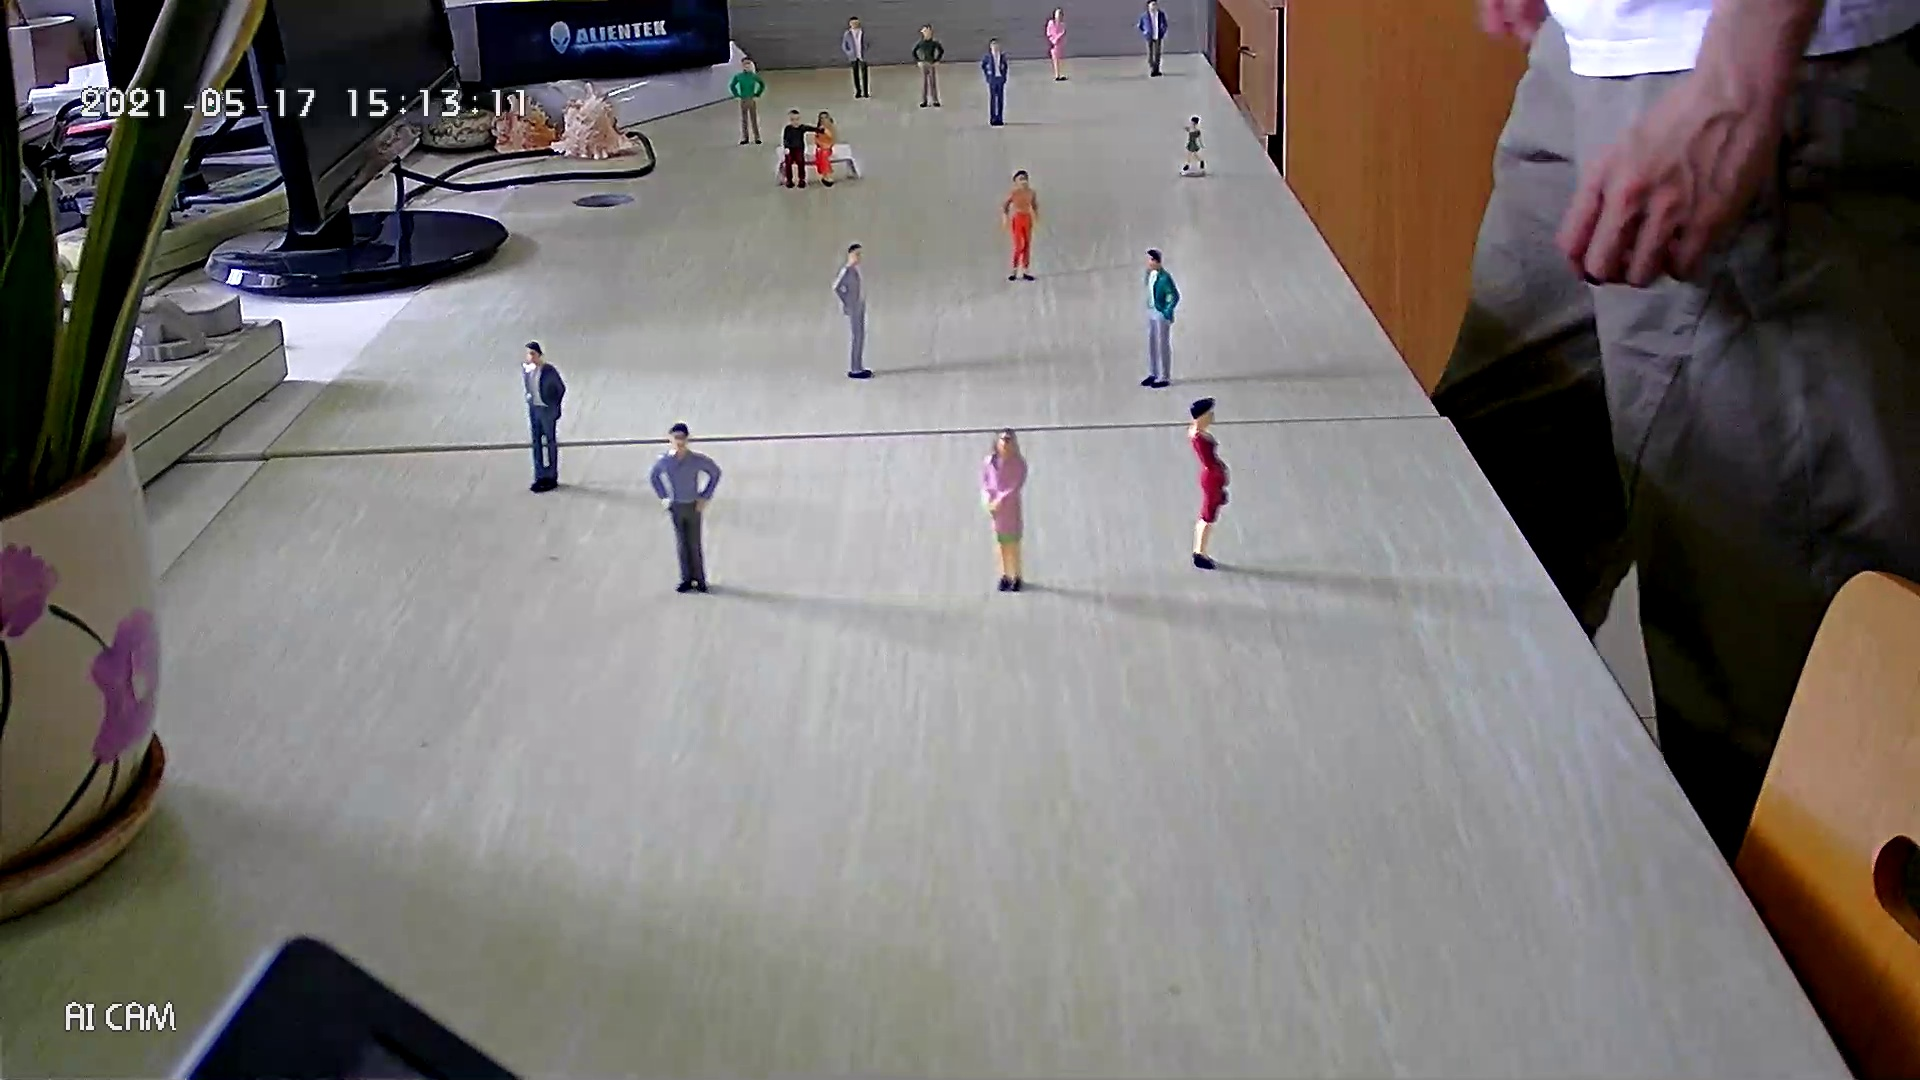person: (648, 420, 722, 595), (979, 427, 1031, 593), (1184, 395, 1230, 571), (519, 340, 567, 496), (830, 239, 875, 380), (1140, 247, 1181, 389), (999, 168, 1042, 284), (780, 106, 832, 190), (729, 55, 767, 148), (911, 22, 945, 109), (980, 35, 1009, 128), (841, 16, 873, 100), (1136, 1, 1170, 79), (1175, 112, 1210, 172), (813, 108, 839, 189), (1045, 6, 1069, 83)
